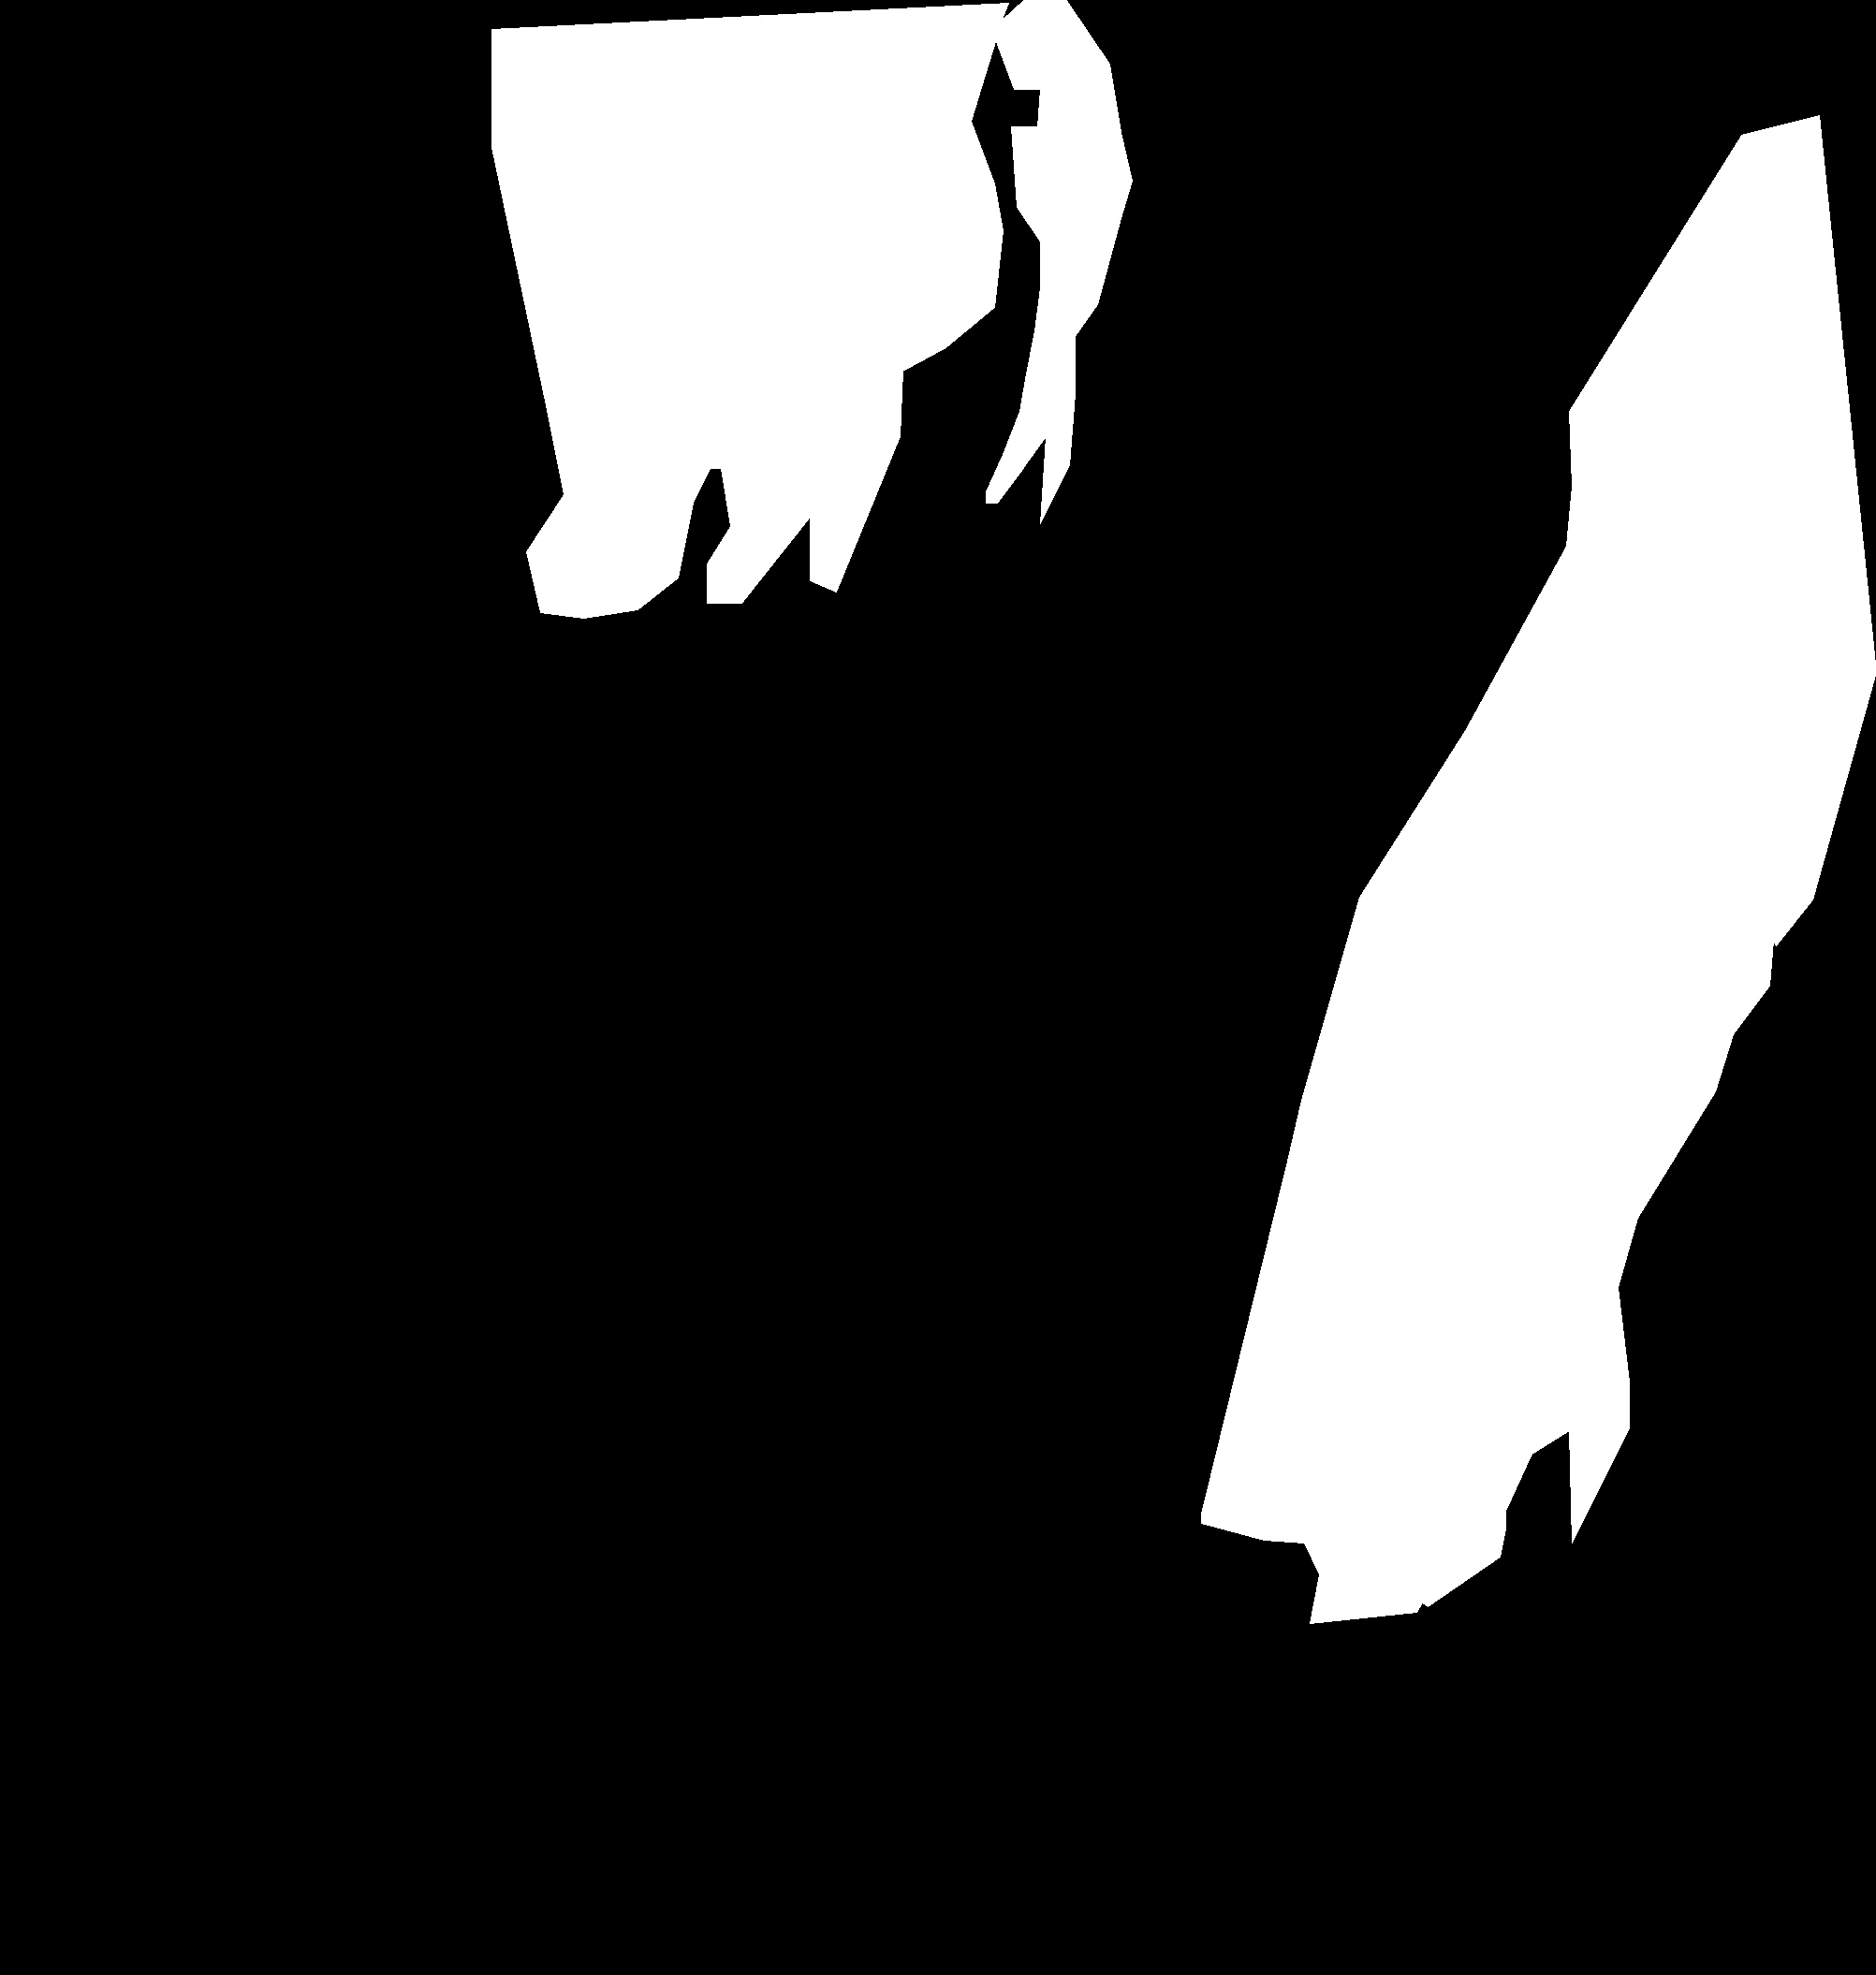Fire: (1210, 374, 1876, 1612), (450, 2, 922, 656)
